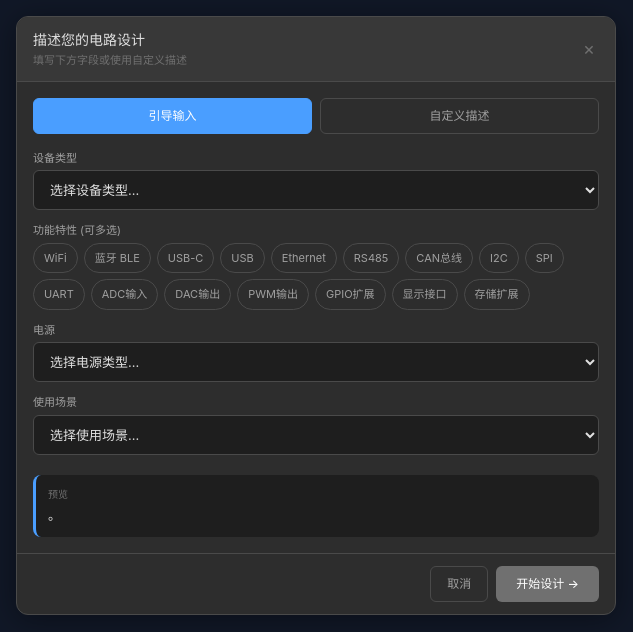
Test case: MadLibsInput Component › should switch to custom text mode
Click the button "自定义描述": (460, 116) [320,98,599,134]
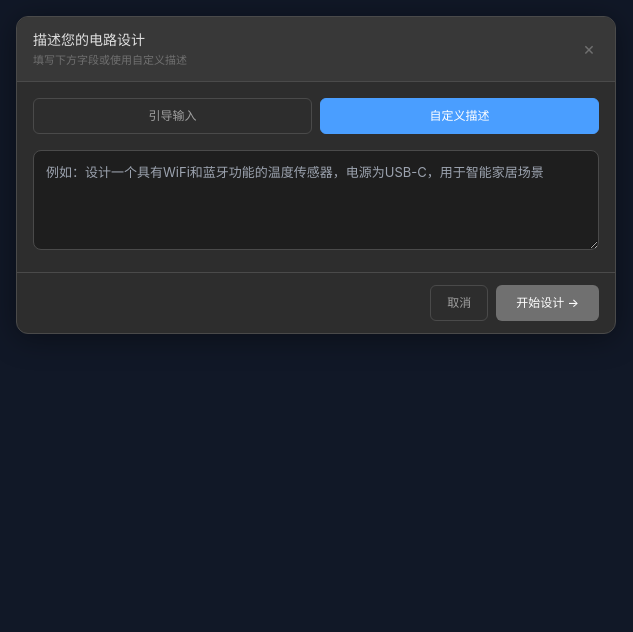
Expected: the text box with placeholder "例如：设计一个具有WiFi和蓝牙功能的温度传感器，电源为USB-C，用于智能家居场景" is shown, [33,150,599,250]
